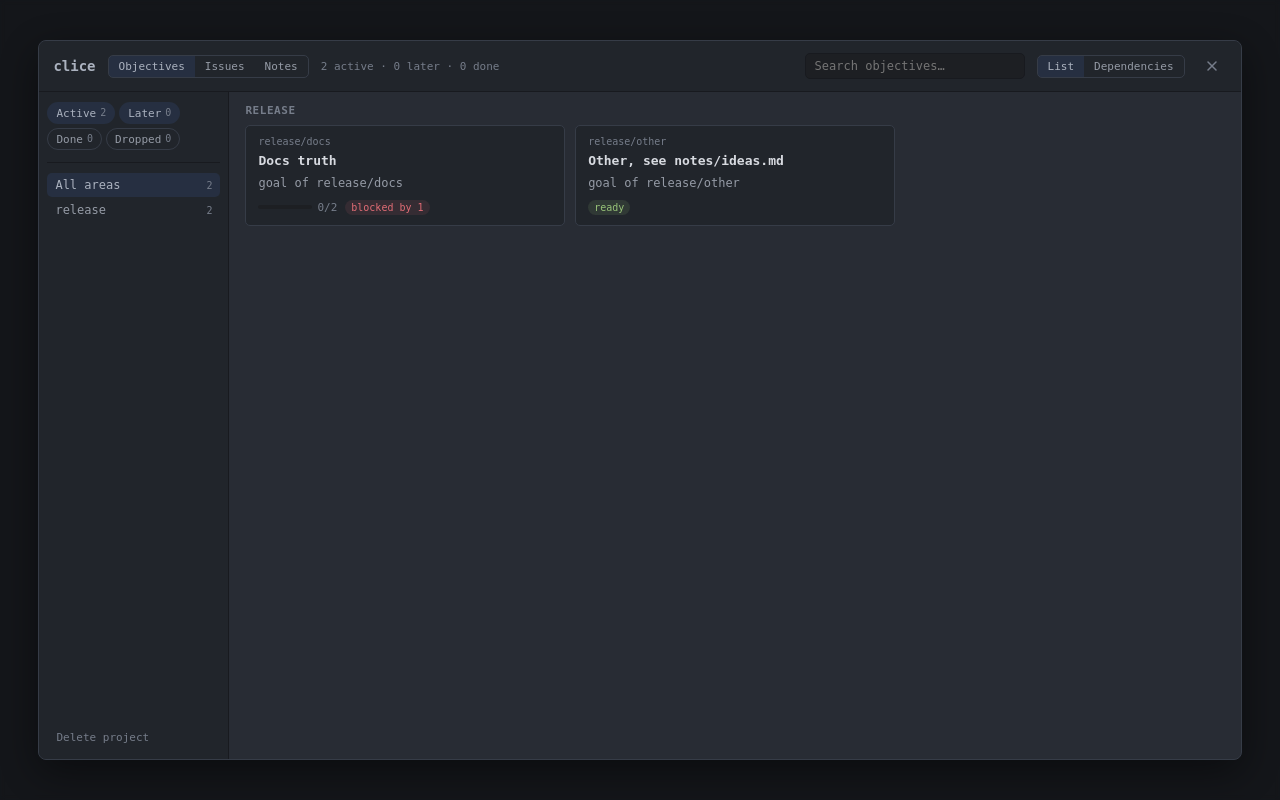
the notes view › opens a path an objective names on the board, a line of code marked
The width and height of the screenshot is (1280, 800).
What coordinates should you click on to do the following:
click the button that starts with "release/docs"
I would click on:
 (405, 175)
Its box is [245,125,565,226].
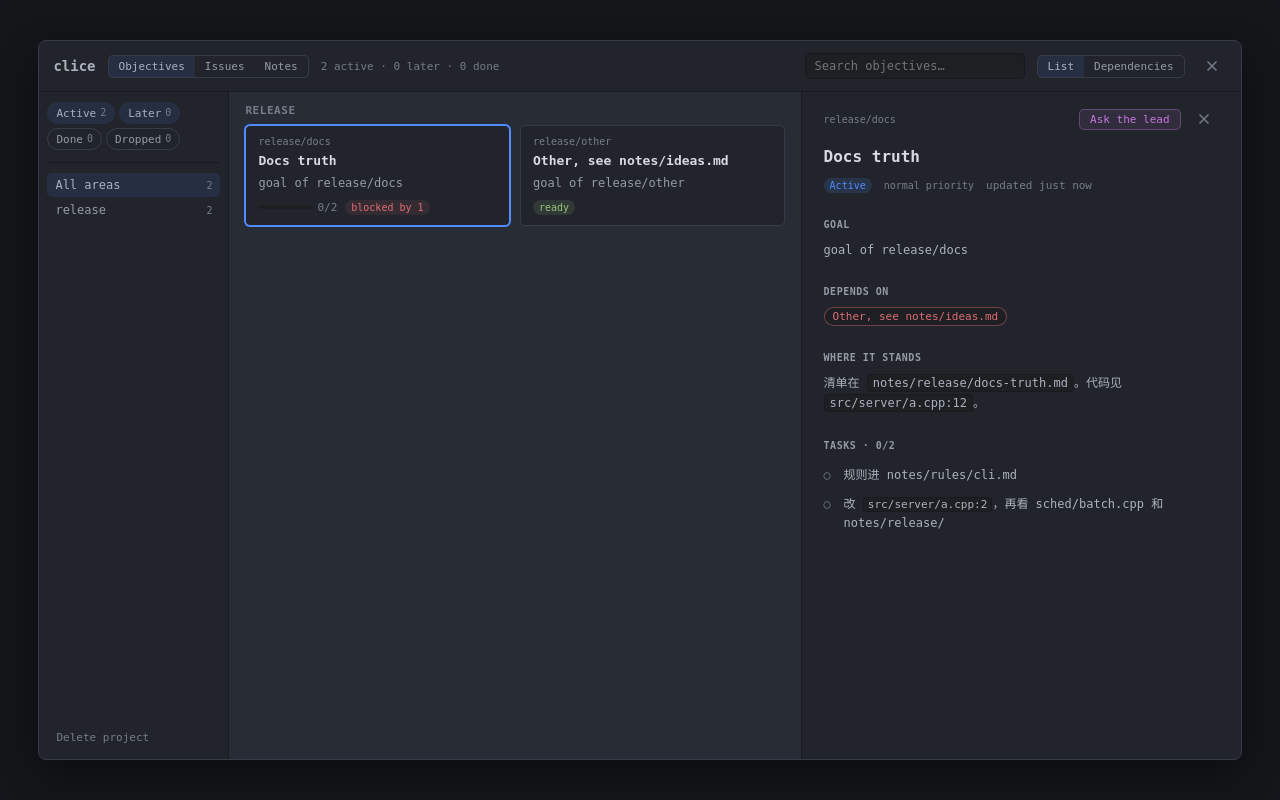
What coordinates should you click on to do the following:
click the button "src/server/a.cpp:12"
I would click on:
 (898, 403)
Its box is [824,394,973,412].
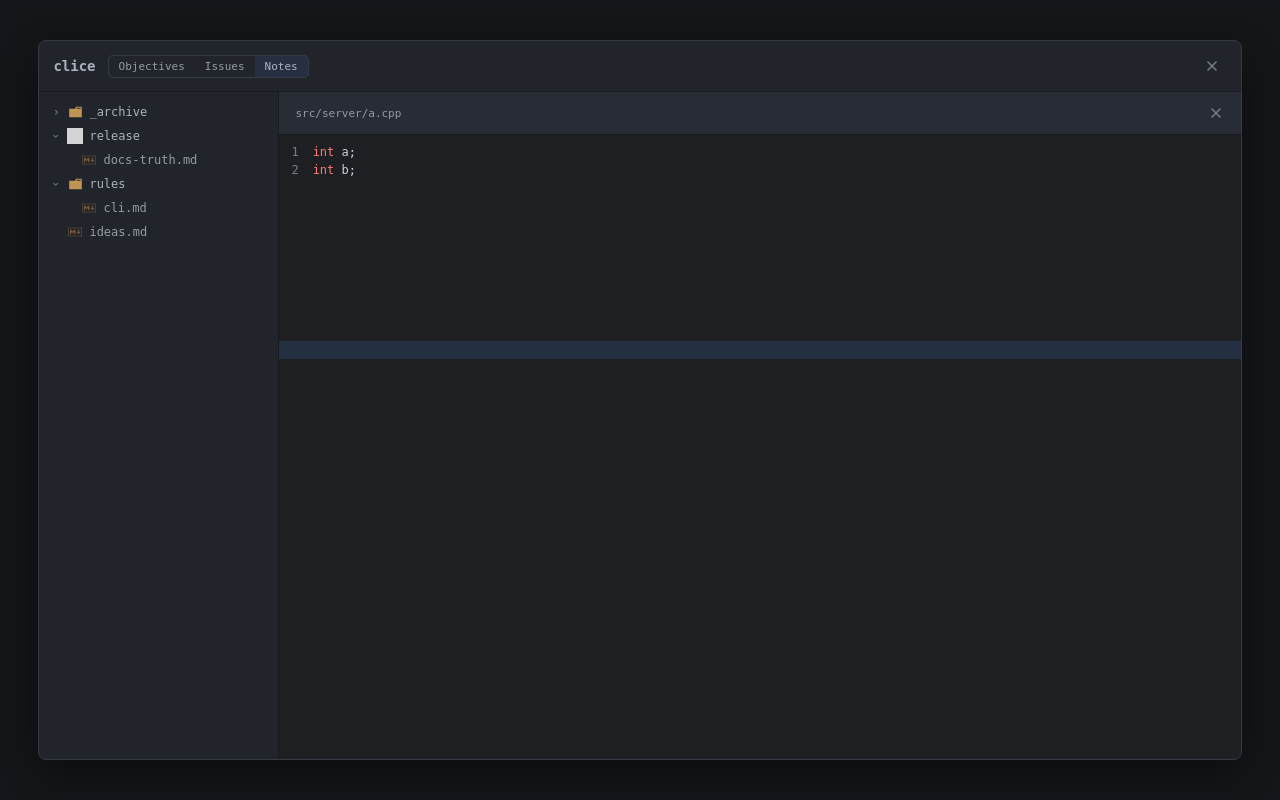
expect the element "src/server/a.cpp 1 2 int a; int b;" is shown: met
expect the element with class "code-mark" is shown: met, box [279,341,1241,359]
